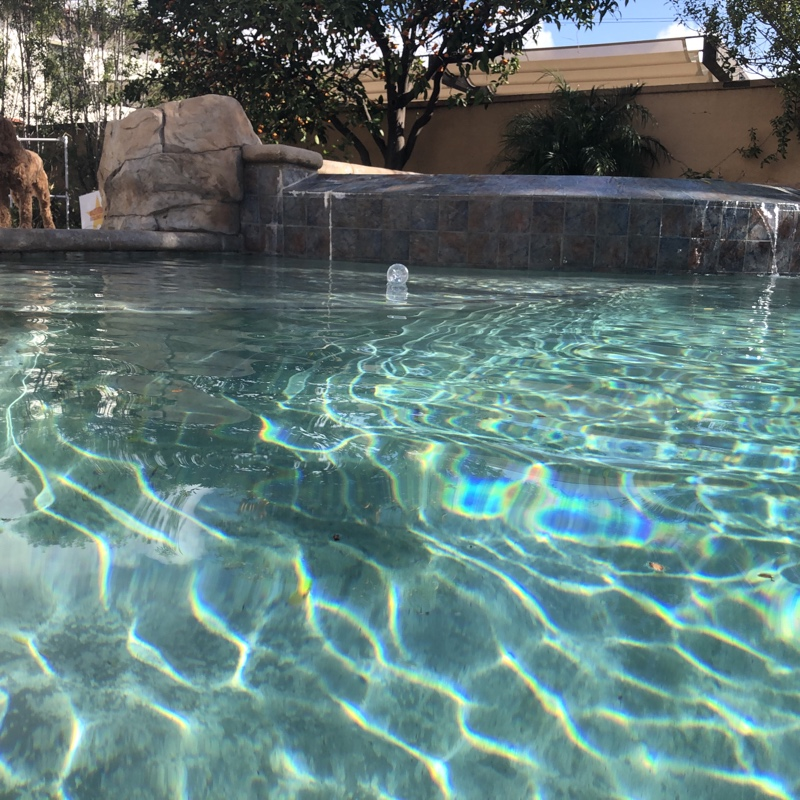Plastic Bottle: (381, 257, 413, 295)
